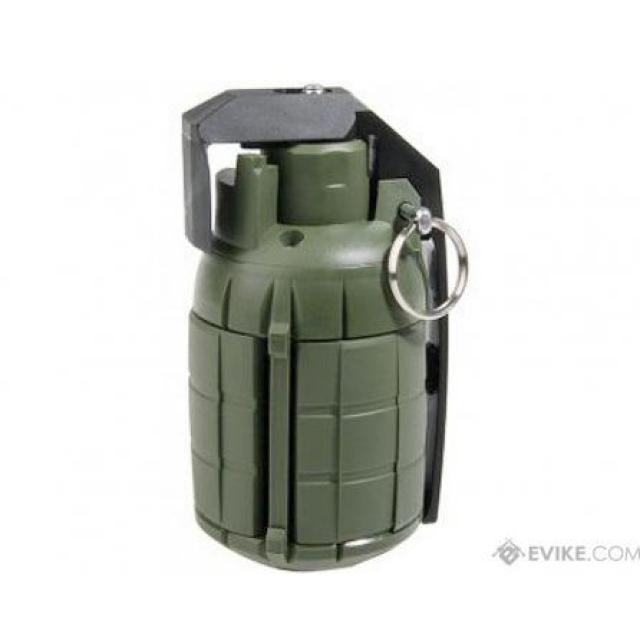grenade: (182, 86, 467, 568)
